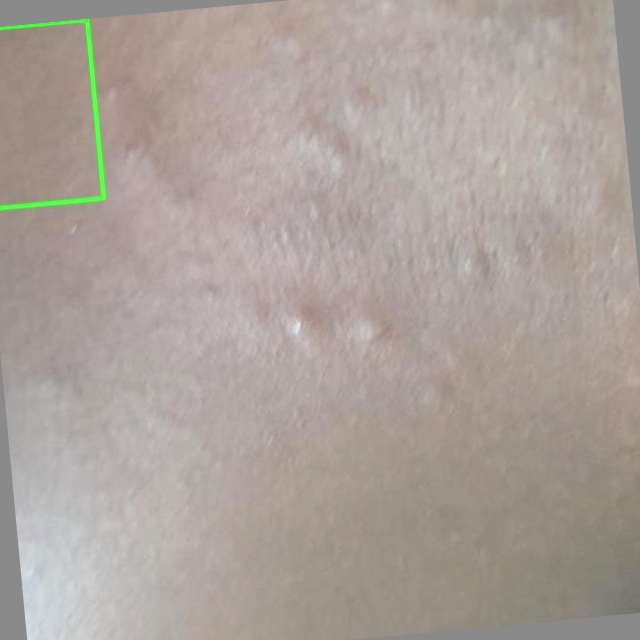Seborrheic Dermatitis: (0, 19, 103, 208)
